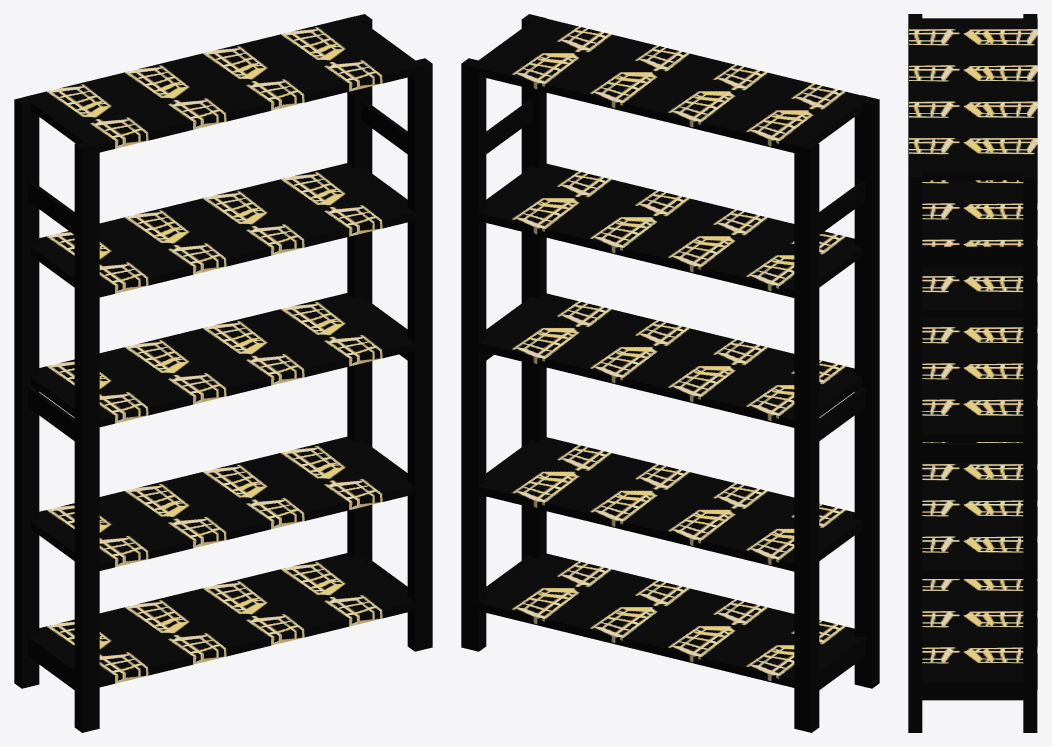
File: pinewoodRackMediumHeight.obj
3 views of the same model, side by side, from view 1: azimuth 30°, elevation 25°; view 2: azimuth 150°, elevation 25°; view 3: azimuth 270°, elevation 25° (orthographic). The views are drawn at different scales.
Visible parts, largest first — view 1: rack; view 2: rack; view 3: rack.
Part boxes in pixels (box(x1,y1,x2,y2)): rack: box(14, 14, 432, 732); rack: box(461, 14, 879, 732); rack: box(908, 14, 1037, 732).
Bounding box in the file's own units: 89.8 × 143 × 30.17.
